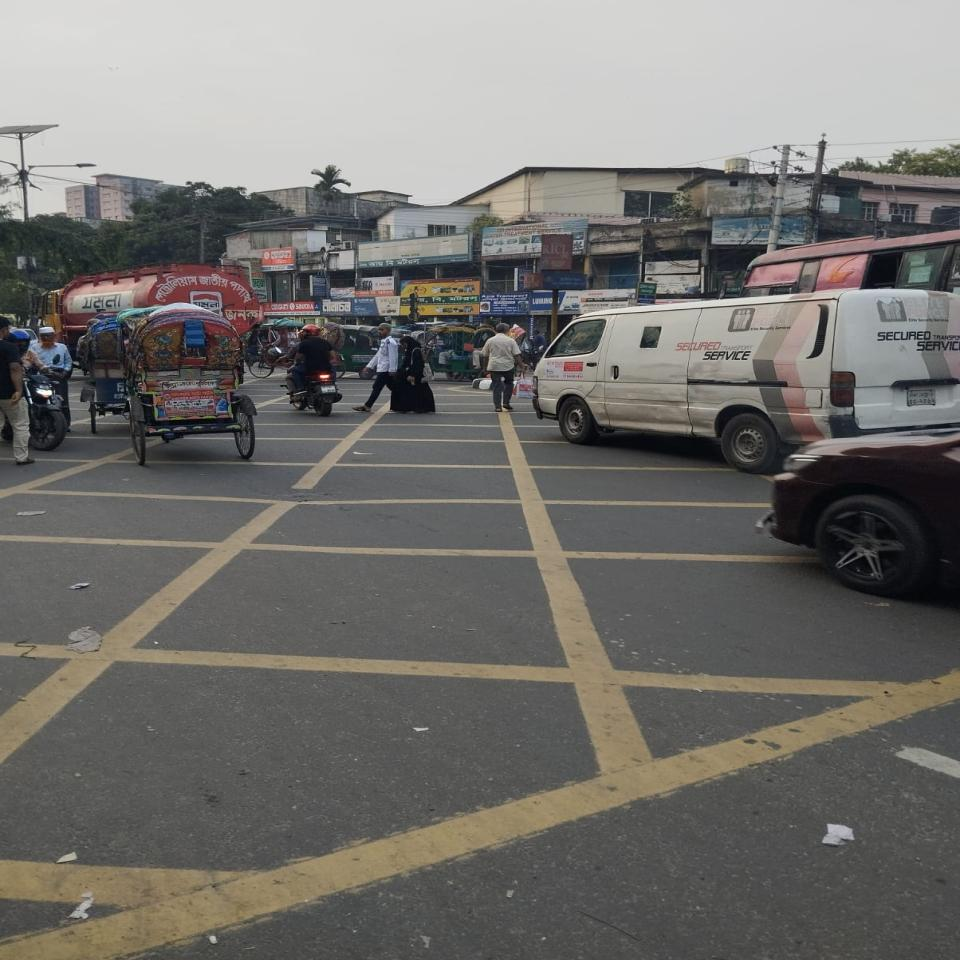person: (0, 318, 34, 466), (354, 323, 399, 413), (480, 324, 525, 412), (390, 335, 435, 414)
